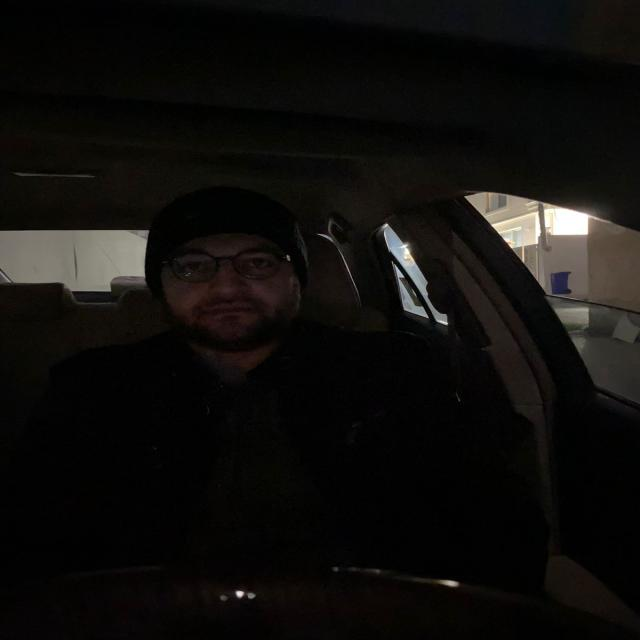person: (135, 178, 331, 366)
